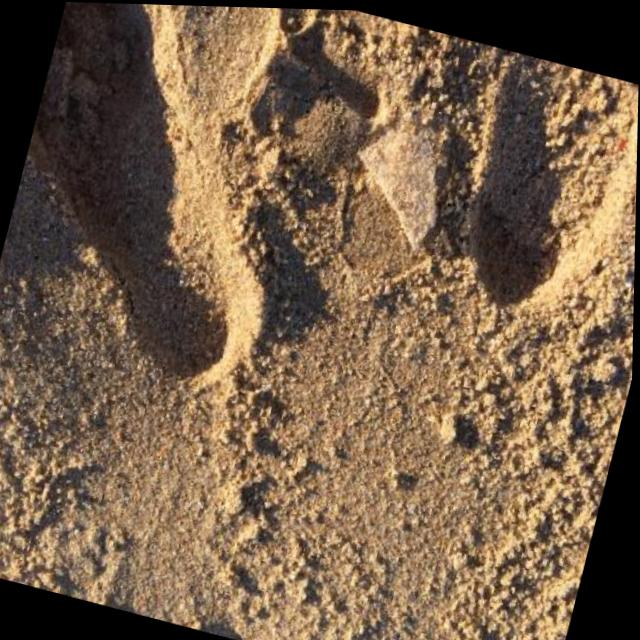plastic: (337, 112, 456, 252)
